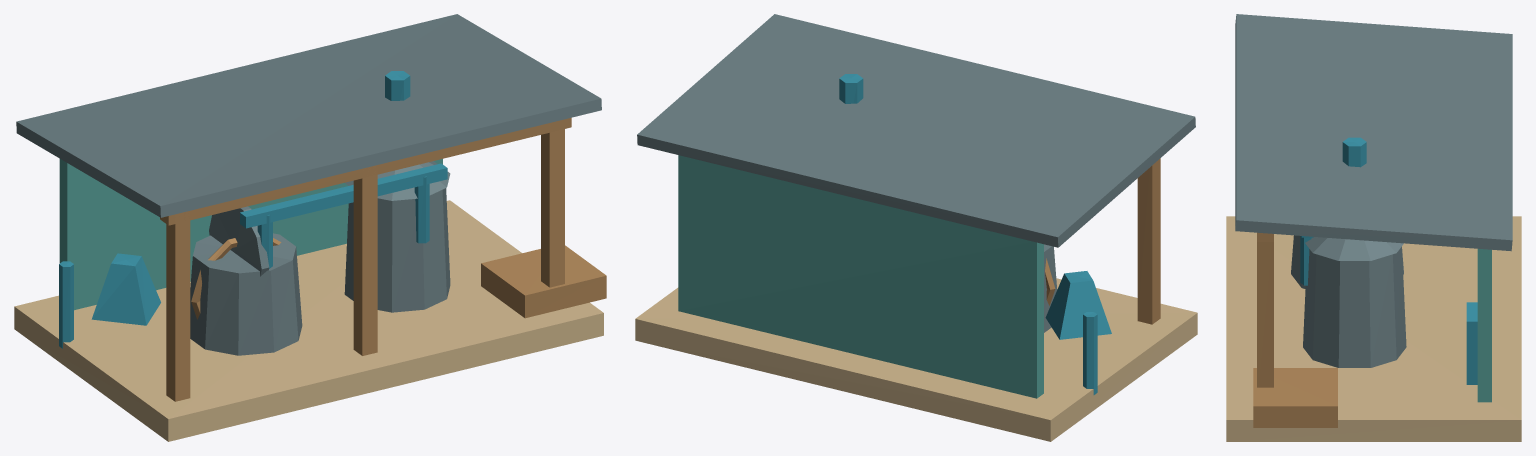
The model's file is brewery.source.glb.
The picture shows the model from 3 angles, left to right: view 1: azimuth 30°, elevation 25°; view 2: azimuth 150°, elevation 25°; view 3: azimuth 270°, elevation 25°; orthographic projection. The views are drawn at different scales.
Parts seen in each view (by area): view 1: brewery-shallow-galvanized-service-roof-mesh, brewery-cream-plaster-service-base-mesh, brewery-muted-teal-rear-panel-mesh, brewery-warm-timber-canopy-post-mesh (×3), brewery-empty-squat-mash-tun-mesh, brewery-empty-tall-brewing-kettle-mesh, brewery-empty-keg-output-dock-mesh, brewery-timber-canopy-beam-mesh, brewery-small-empty-grain-input-hopper-mesh, brewery-short-brewing-pipe-manifold-mesh, brewery-visible-hinged-mash-tun-lid-mesh, brewery-water-service-connection-mesh (+4 smaller); view 2: brewery-shallow-galvanized-service-roof-mesh, brewery-muted-teal-rear-panel-mesh, brewery-cream-plaster-service-base-mesh, brewery-warm-timber-canopy-post-mesh, brewery-small-empty-grain-input-hopper-mesh, brewery-water-service-connection-mesh, brewery-thin-brewery-vent-stack-mesh, brewery-empty-squat-mash-tun-mesh; view 3: brewery-shallow-galvanized-service-roof-mesh, brewery-cream-plaster-service-base-mesh, brewery-empty-tall-brewing-kettle-mesh, brewery-empty-keg-output-dock-mesh, brewery-warm-timber-canopy-post-mesh, brewery-muted-teal-rear-panel-mesh, brewery-kettle-conical-shoulder-mesh, brewery-small-service-cabinet-mesh, brewery-thin-brewery-vent-stack-mesh, brewery-empty-squat-mash-tun-mesh, brewery-manifold-vessel-drop-pipe-mesh.
Part boxes in pixels (<box>): brewery-shallow-galvanized-service-roof-mesh: <box>16,14,601,217</box>; brewery-cream-plaster-service-base-mesh: <box>14,200,603,441</box>; brewery-muted-teal-rear-panel-mesh: <box>59,159,442,310</box>; brewery-warm-timber-canopy-post-mesh (×3): <box>166,124,564,401</box>; brewery-empty-squat-mash-tun-mesh: <box>190,233,302,355</box>; brewery-empty-tall-brewing-kettle-mesh: <box>344,188,450,312</box>; brewery-empty-keg-output-dock-mesh: <box>481,245,606,318</box>; brewery-timber-canopy-beam-mesh: <box>160,117,571,225</box>; brewery-small-empty-grain-input-hopper-mesh: <box>91,253,160,325</box>; brewery-short-brewing-pipe-manifold-mesh: <box>240,163,447,228</box>; brewery-visible-hinged-mash-tun-lid-mesh: <box>209,206,269,276</box>; brewery-water-service-connection-mesh: <box>59,261,73,348</box>; brewery-shallow-galvanized-service-roof-mesh: <box>637,14,1195,247</box>; brewery-muted-teal-rear-panel-mesh: <box>678,155,1043,398</box>; brewery-cream-plaster-service-base-mesh: <box>635,278,1197,441</box>; brewery-warm-timber-canopy-post-mesh: <box>1137,158,1160,324</box>; brewery-small-empty-grain-input-hopper-mesh: <box>1045,271,1111,339</box>; brewery-water-service-connection-mesh: <box>1083,312,1097,394</box>; brewery-thin-brewery-vent-stack-mesh: <box>839,74,863,103</box>; brewery-empty-squat-mash-tun-mesh: <box>1044,244,1057,332</box>; brewery-shallow-galvanized-service-roof-mesh: <box>1235,14,1512,251</box>; brewery-cream-plaster-service-base-mesh: <box>1226,216,1521,441</box>; brewery-empty-tall-brewing-kettle-mesh: <box>1303,246,1406,367</box>; brewery-empty-keg-output-dock-mesh: <box>1253,368,1337,427</box>; brewery-warm-timber-canopy-post-mesh: <box>1257,242,1273,387</box>; brewery-muted-teal-rear-panel-mesh: <box>1477,248,1491,402</box>; brewery-kettle-conical-shoulder-mesh: <box>1305,237,1403,260</box>; brewery-small-service-cabinet-mesh: <box>1466,302,1477,384</box>; brewery-thin-brewery-vent-stack-mesh: <box>1342,137,1366,167</box>; brewery-empty-squat-mash-tun-mesh: <box>1291,235,1403,288</box>; brewery-manifold-vessel-drop-pipe-mesh: <box>1300,236,1311,285</box>.
Size of the model in its own units: 4.18 by 2.15 by 2.45.
